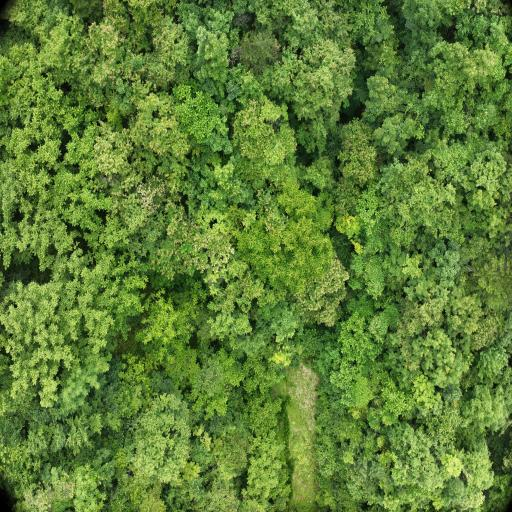dead-tree: (236, 16, 250, 28), (229, 50, 238, 64)
